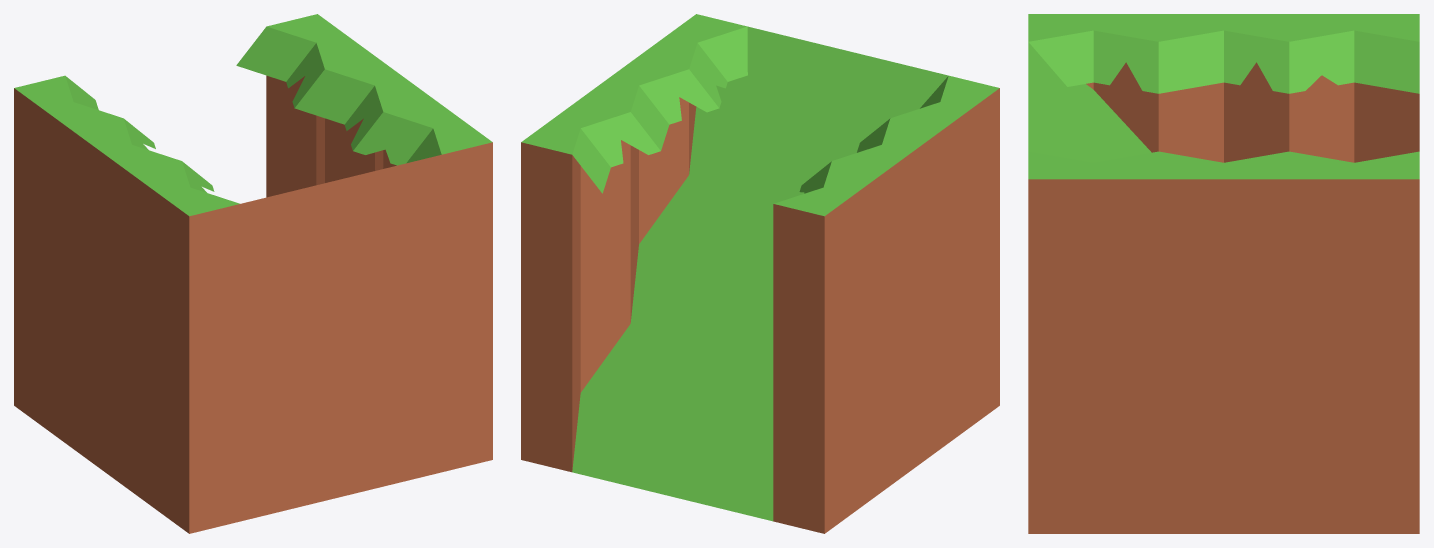
The model's file is cliff_blockSlopeWalls_rock.glb.
3 renders of one model, left to right at view 1: azimuth 30°, elevation 25°; view 2: azimuth 150°, elevation 25°; view 3: azimuth 270°, elevation 25°, orthographic. The views are drawn at different scales.
Parts seen in each view (by area): view 1: cliff_blockSlopeWalls_rock; view 2: cliff_blockSlopeWalls_rock; view 3: cliff_blockSlopeWalls_rock.
Part boxes in pixels (x1=…): cliff_blockSlopeWalls_rock: x1=14, y1=14, x2=492, y2=533; cliff_blockSlopeWalls_rock: x1=521, y1=14, x2=999, y2=533; cliff_blockSlopeWalls_rock: x1=1028, y1=14, x2=1419, y2=533.
Size of the model in its own units: 1 by 1 by 1.
